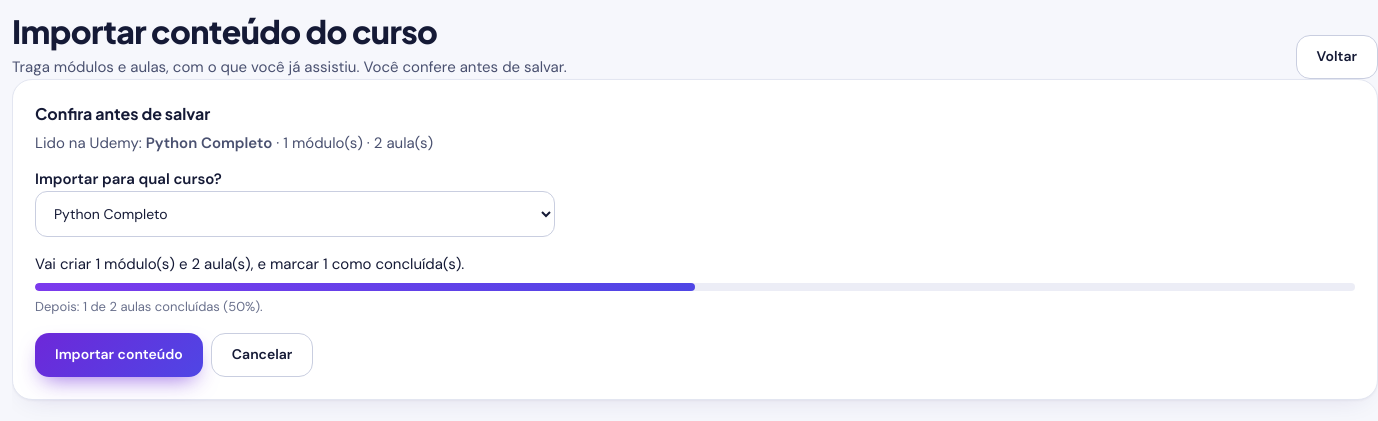
Test: página Importar conteúdo › confirmar grava e mostra o resultado com link para o curso
The width and height of the screenshot is (1378, 421).
Click the button "Importar conteúdo": (119, 355) [35,333,203,377]
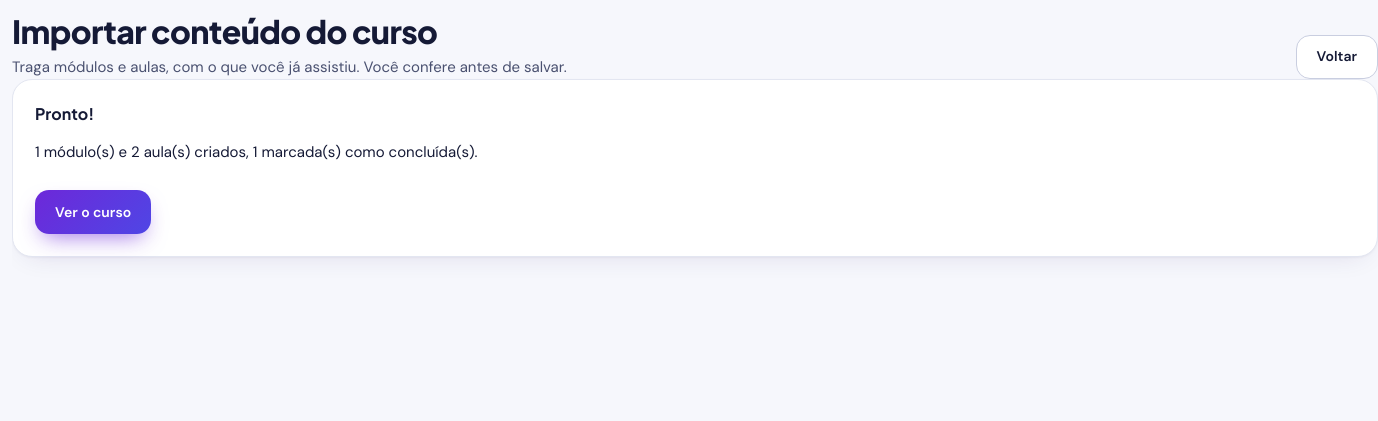
Now the text "Pronto!" is shown, box [35,103,94,124]
Now the link to "/cursos/2" is shown, box [35,190,151,234]
